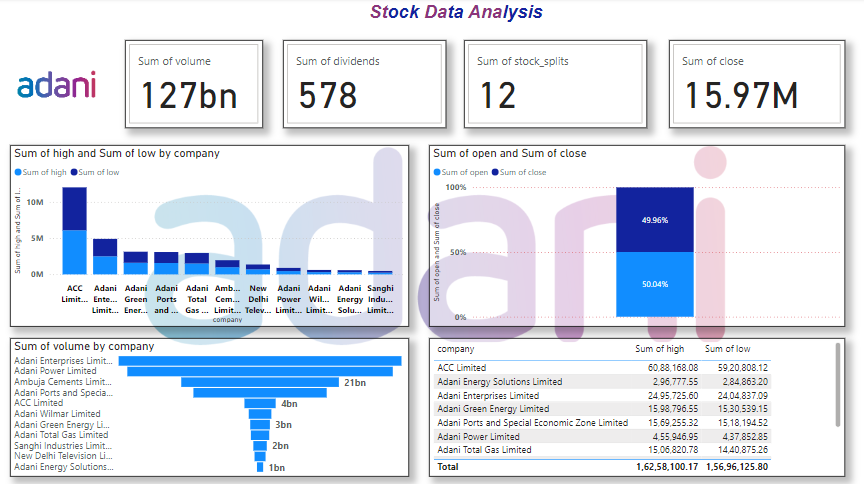

The page's visual inventory and layout, read from the dashboard file:
{"tool":"powerbi","page":{"name":"Adani Stocks","canvas":[1280,720],"ordinal":0},"visuals":[{"type":"image","box":[0,61.5,171.2,128.8],"z":0},{"type":"textbox","box":[241.5,0,857.6,61.5],"z":1000},{"type":"cardVisual","fields":{"Data":["Sum(adani.volume)"]},"box":[185.9,61.5,202,128.8],"z":2000},{"type":"cardVisual","fields":{"Data":["Sum(adani.dividends)"]},"box":[417.1,61.5,238.5,128.8],"z":3000},{"type":"cardVisual","fields":{"Data":["Sum(adani.stock_splits)"]},"box":[682,61.5,267.8,128.8],"z":4000},{"type":"cardVisual","fields":{"Data":["Sum(adani.close)"]},"box":[982,61.5,257.6,128.8],"z":5000},{"type":"lineStackedColumnComboChart","fields":{"Category":["adani.company"],"Y":["Sum(adani.high)","Sum(adani.low)"]},"box":[17.6,215.1,583.9,266.3],"z":6000},{"type":"hundredPercentStackedColumnChart","fields":{"Y":["Sum(adani.open)","Sum(adani.close)"]},"box":[630.7,215.1,608.8,266.3],"z":7000},{"type":"funnel","fields":{"Category":["adani.company"],"Y":["Sum(adani.volume)"]},"box":[17.6,497.6,583.9,203.4],"z":8000},{"type":"tableEx","fields":{"Values":["adani.company","Sum(adani.high)","Sum(adani.low)"]},"box":[630.7,497.6,608.8,203.4],"z":9000}]}

Visuals, with their boxes in screenshot pixels (x1, y1, x2, y2), scaled from the page's 1280x720 canvas onto the 864x484 screenshot:
image: detection(0, 41, 116, 128)
textbox: detection(163, 0, 742, 41)
cardVisual - Sum(adani.volume): detection(125, 41, 262, 128)
cardVisual - Sum(adani.dividends): detection(282, 41, 443, 128)
cardVisual - Sum(adani.stock_splits): detection(460, 41, 641, 128)
cardVisual - Sum(adani.close): detection(663, 41, 837, 128)
lineStackedColumnComboChart - adani.company x Sum(adani.high): detection(12, 145, 406, 324)
hundredPercentStackedColumnChart - Sum(adani.open) x Sum(adani.close): detection(426, 145, 837, 324)
funnel - adani.company x Sum(adani.volume): detection(12, 334, 406, 471)
tableEx - adani.company x Sum(adani.high): detection(426, 334, 837, 471)
